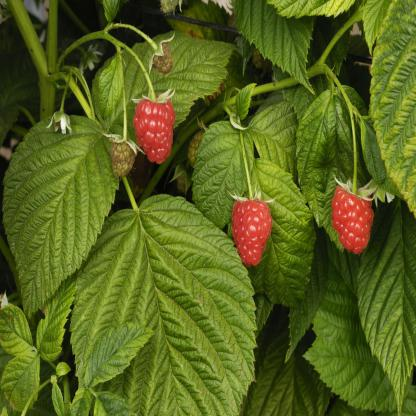raspberry leaf: (70, 186, 256, 416)
